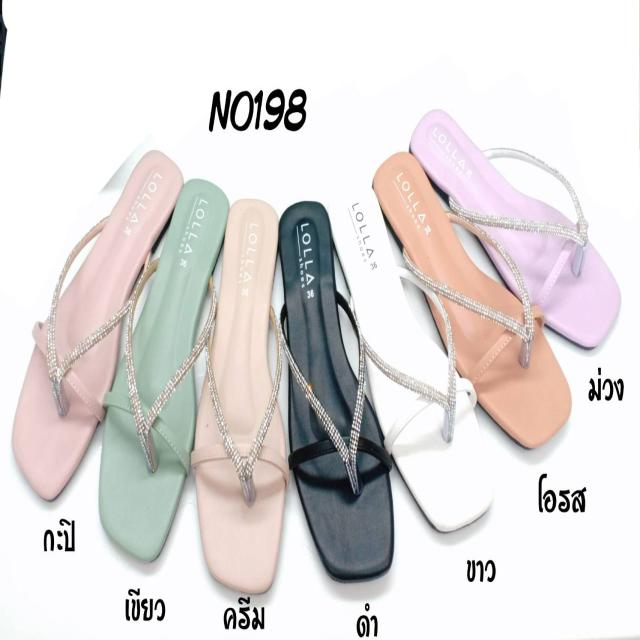black: (278, 166, 406, 621)
cream: (192, 180, 288, 598)
green: (97, 149, 235, 575)
kapi: (0, 134, 185, 499)
orot: (372, 147, 574, 456)
purple: (413, 87, 625, 362)
white: (321, 180, 511, 532)
